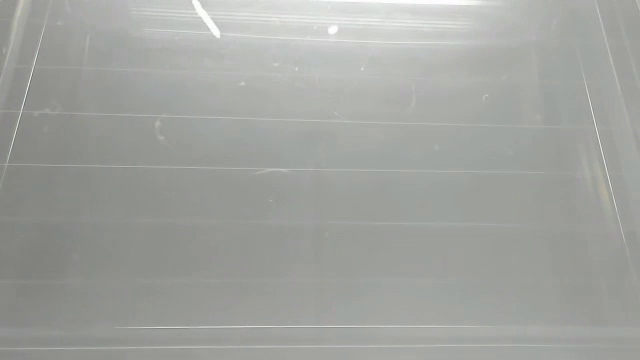alpha: (186, 1, 224, 41), (323, 24, 342, 34)
